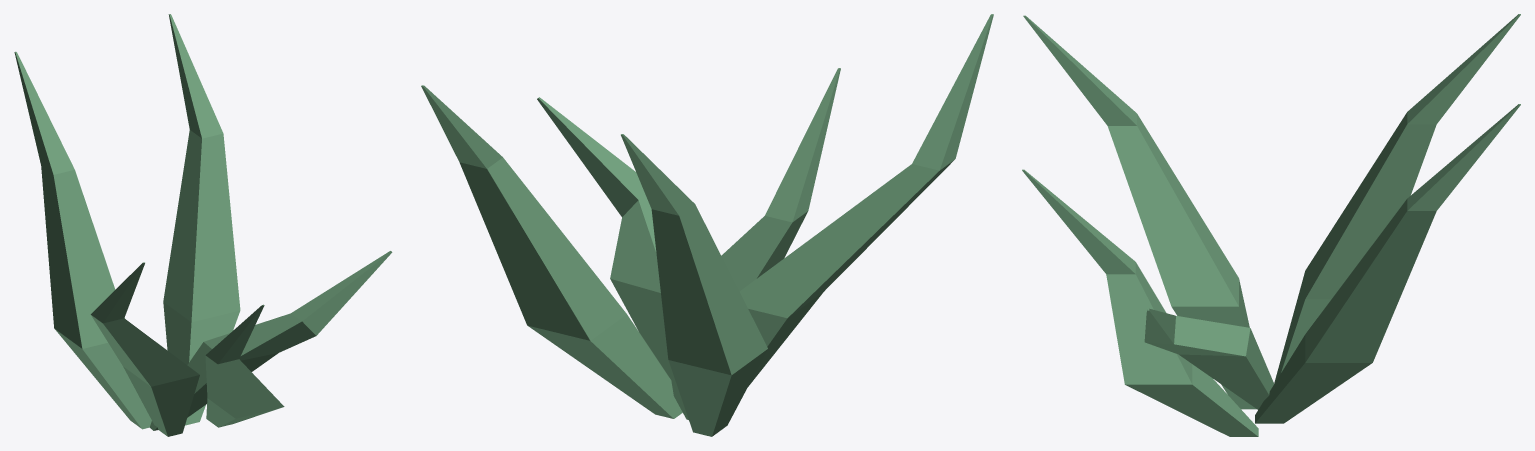
File: Plant.fbx
The picture shows the model from 3 angles, left to right: view 1: azimuth 30°, elevation 25°; view 2: azimuth 150°, elevation 25°; view 3: azimuth 270°, elevation 25°; orthographic projection. The views are drawn at different scales.
Parts seen in each view (by area): view 1: pCube37; view 2: pCube37; view 3: pCube37.
Boxes of the visible parts, x1=… form: pCube37: x1=14, y1=14, x2=392, y2=436; pCube37: x1=421, y1=14, x2=993, y2=436; pCube37: x1=1022, y1=14, x2=1520, y2=436.
Size of the model in its own units: 0.5251 by 0.5024 by 0.6197.
